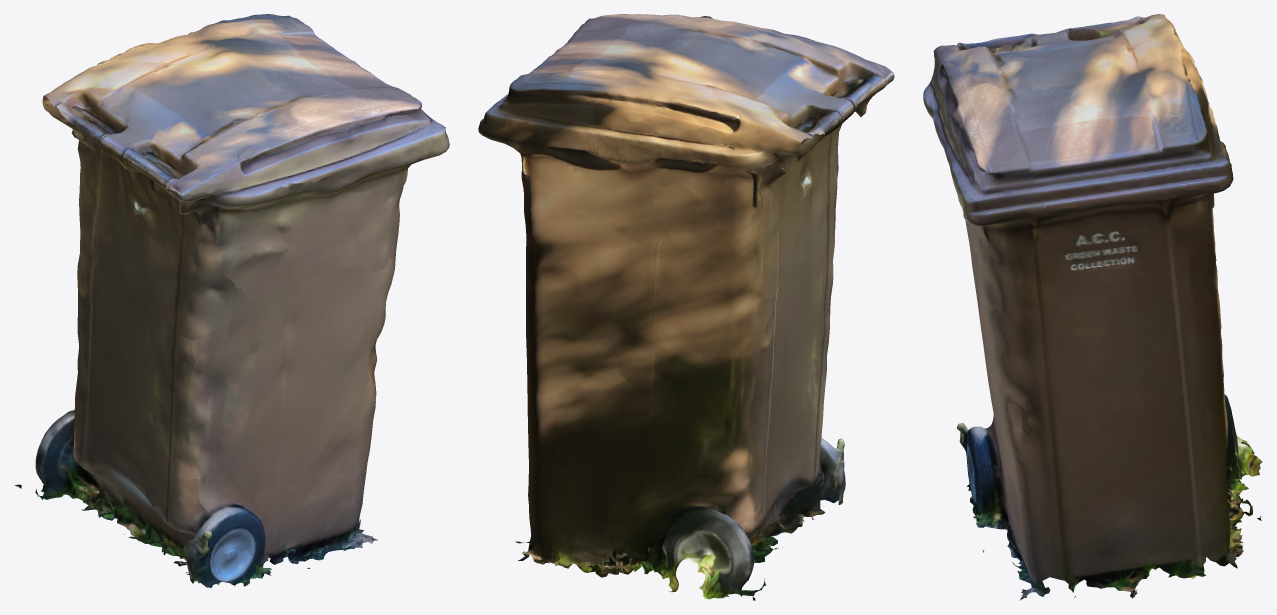
File: Recycling_Trash_Bin.obj
3 renders of one model, left to right at view 1: azimuth 30°, elevation 25°; view 2: azimuth 150°, elevation 25°; view 3: azimuth 270°, elevation 25°, orthographic. The views are drawn at different scales.
Visible parts, largest first — view 1: Object; view 2: Object; view 3: Object.
Boxes of the visible parts, x1,y1,x2,y2 form: Object: [15, 14, 449, 587]; Object: [478, 14, 894, 600]; Object: [923, 14, 1262, 600].
Size of the model in its own units: 1.28 by 1.89 by 1.2.
